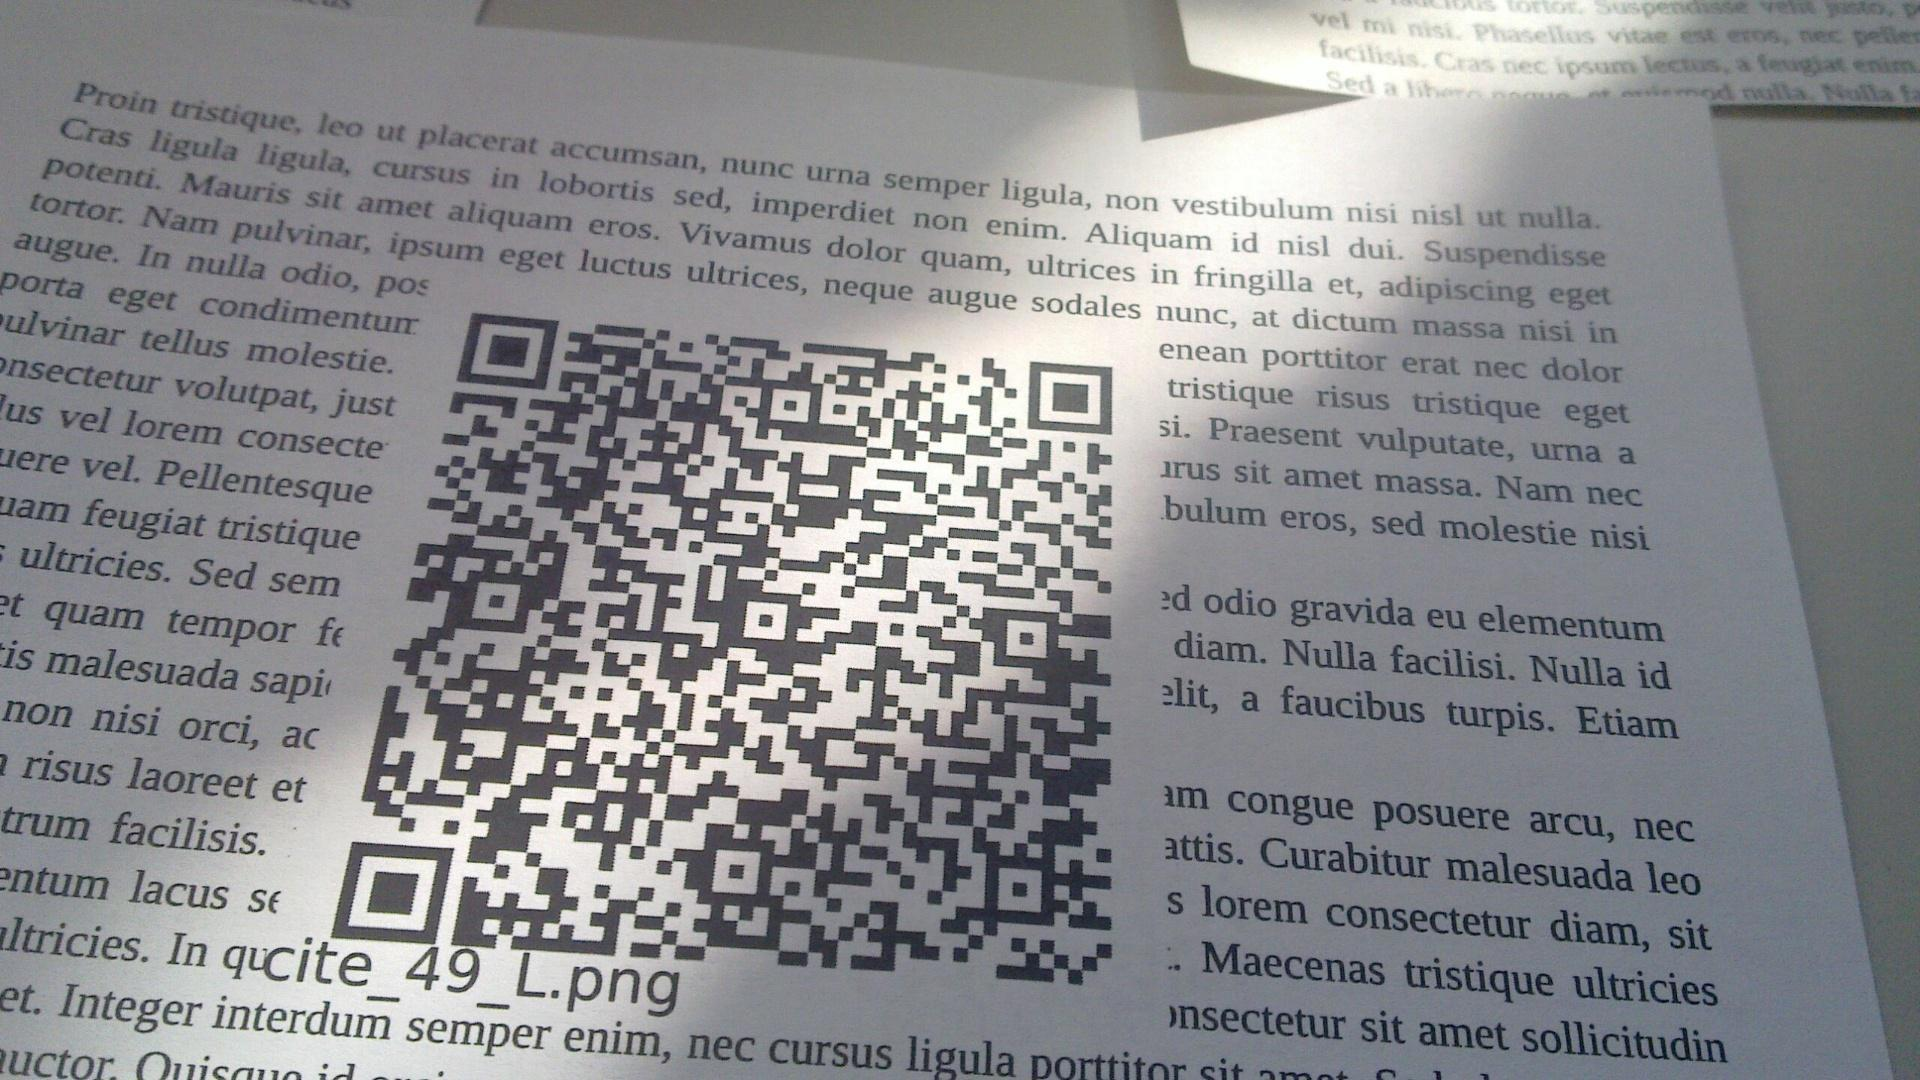Finder pattern: (328, 839, 459, 951), (1018, 353, 1118, 442), (458, 307, 560, 392)
